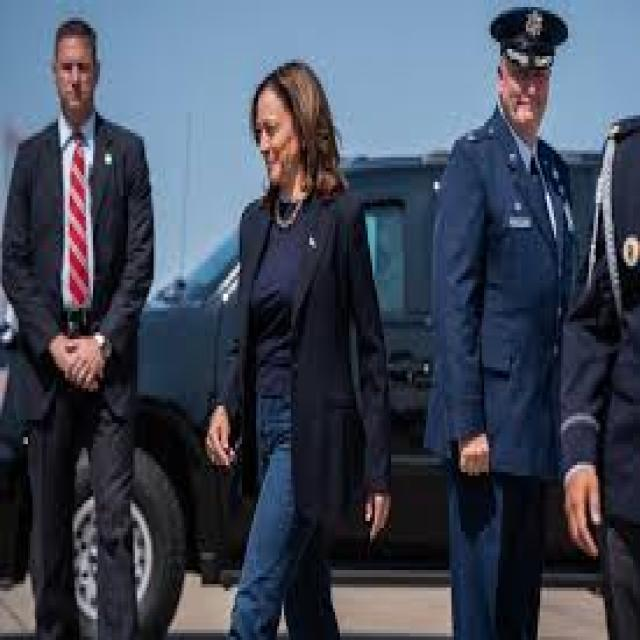stand: (214, 64, 377, 640), (438, 35, 579, 640), (32, 35, 158, 640)
